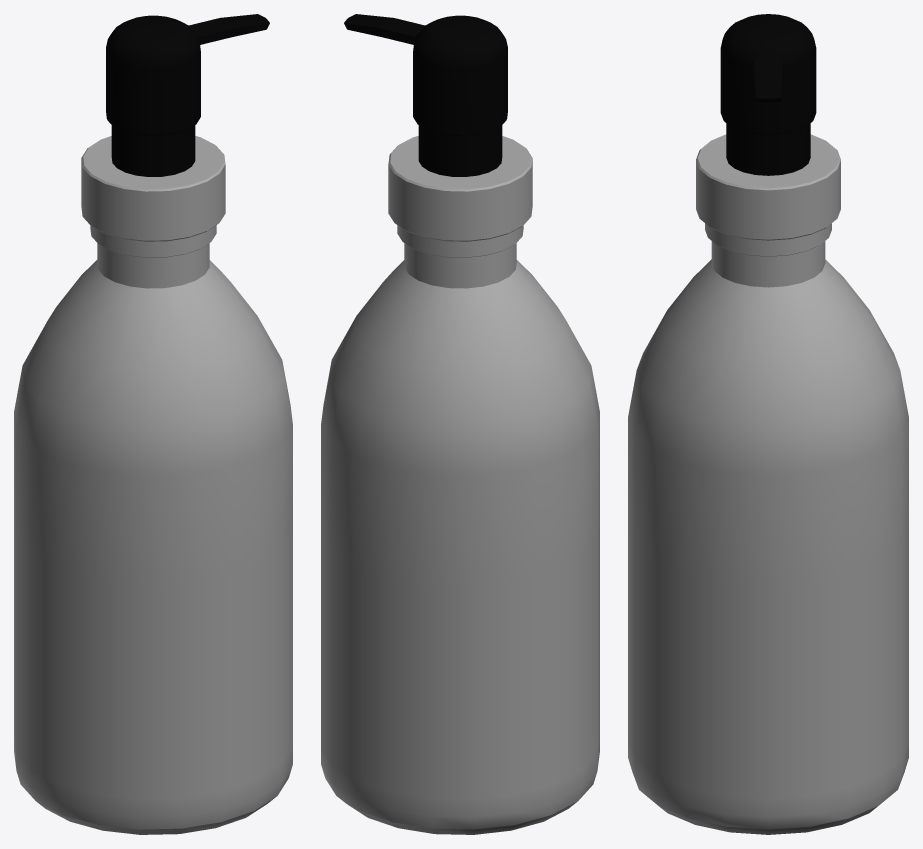
File: Soap.fbx
The picture shows the model from 3 angles, left to right: view 1: azimuth 30°, elevation 25°; view 2: azimuth 150°, elevation 25°; view 3: azimuth 270°, elevation 25°; orthographic projection.
Parts seen in each view (by area): view 1: pCylinder23; view 2: pCylinder23; view 3: pCylinder23.
Part boxes in pixels (left/top/right/bottom): pCylinder23: left=14, top=14, right=292, bottom=834; pCylinder23: left=321, top=14, right=599, bottom=834; pCylinder23: left=628, top=14, right=908, bottom=834.
Bounding box in the file's own units: 28.18 × 84.15 × 28.18.
Materials: 1 (1 with a texture image).
